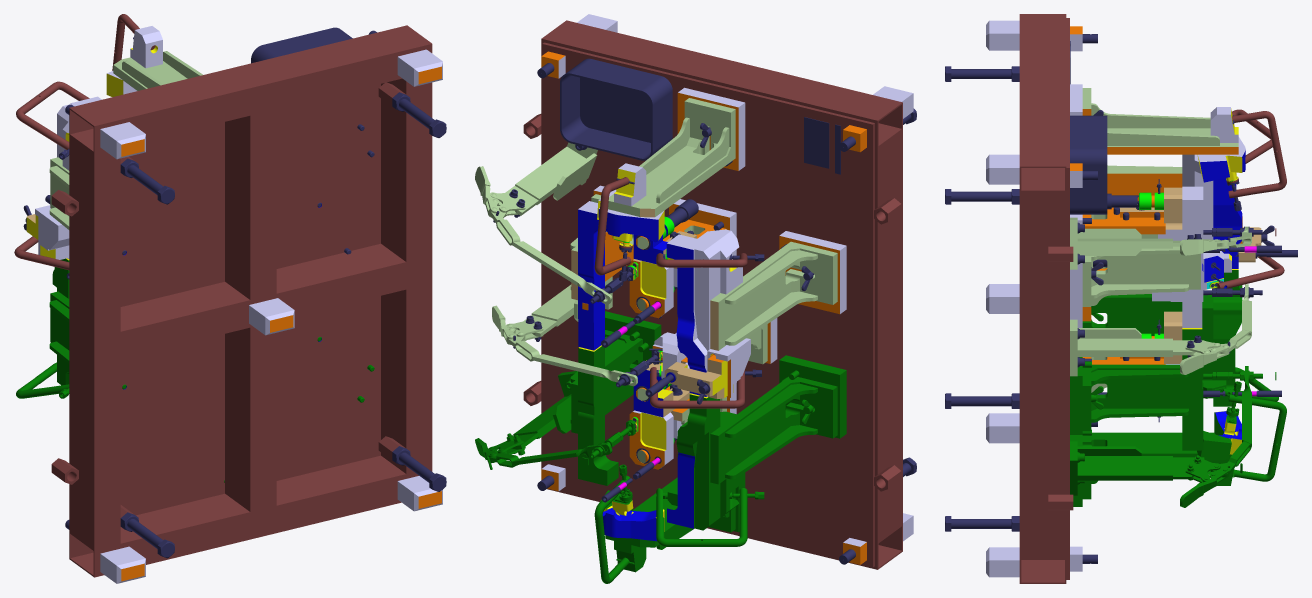
Rendered from YT146157_KLFJ537X0_BRKT-SEAT_ANCHOR_K00260708_KEN_A.obj.
3 views of the same model, side by side, from view 1: azimuth 30°, elevation 25°; view 2: azimuth 150°, elevation 25°; view 3: azimuth 270°, elevation 25° (orthographic). The views are drawn at different scales.
Visible parts, largest first — view 1: Shell_033, Shell_029, Shell_030, Shell_031, Shell_032, Shell_028, Shell_027, Shell_026, Shell_237, Shell_084, Shell_021, Shell_024 (+17 smaller); view 2: Shell_033, Shell_031, Shell_029, Shell_084, Shell_298, Shell_232, Shell_237, Shell_297, Shell_231, Shell_292, Shell_224, Shell_293 (+38 smaller); view 3: Shell_030, Shell_031, Shell_293, Shell_237, Shell_225, Shell_084, Shell_298, Shell_143, Shell_303, Shell_033, Shell_297, Shell_232 (+41 smaller).
Part boxes in pixels (box(x1,y1,x2,y2)): Shell_033: box(120, 84, 380, 515); Shell_029: box(69, 135, 120, 549); Shell_030: box(381, 78, 432, 473); Shell_031: box(69, 25, 432, 153); Shell_032: box(69, 455, 432, 577); Shell_028: box(120, 243, 406, 358); Shell_027: box(225, 109, 276, 299); Shell_026: box(225, 327, 276, 511); Shell_237: box(113, 51, 202, 90); Shell_084: box(251, 27, 352, 63); Shell_021: box(249, 298, 294, 335); Shell_024: box(100, 122, 145, 159); Shell_033: box(542, 42, 874, 567); Shell_031: box(541, 20, 902, 147); Shell_029: box(875, 130, 902, 542); Shell_084: box(560, 58, 672, 160); Shell_298: box(710, 376, 837, 484); Shell_232: box(710, 241, 837, 350); Shell_237: box(608, 98, 735, 217); Shell_297: box(667, 393, 720, 530); Shell_231: box(666, 234, 720, 396); Shell_292: box(578, 345, 618, 485); Shell_224: box(578, 201, 606, 350); Shell_293: box(570, 330, 642, 433); Shell_030: box(1019, 192, 1066, 558); Shell_031: box(1019, 14, 1066, 191); Shell_293: box(1082, 364, 1200, 431); Shell_237: box(1082, 88, 1238, 154); Shell_225: box(1082, 246, 1200, 306); Shell_084: box(1070, 115, 1107, 214); Shell_298: box(1082, 294, 1213, 335); Shell_143: box(1077, 456, 1172, 480); Shell_303: box(1082, 432, 1231, 499); Shell_033: box(1066, 18, 1069, 579); Shell_297: box(1213, 269, 1242, 406); Shell_232: box(1107, 165, 1182, 201).
Size of the model in its own units: 628 by 740 by 567.
